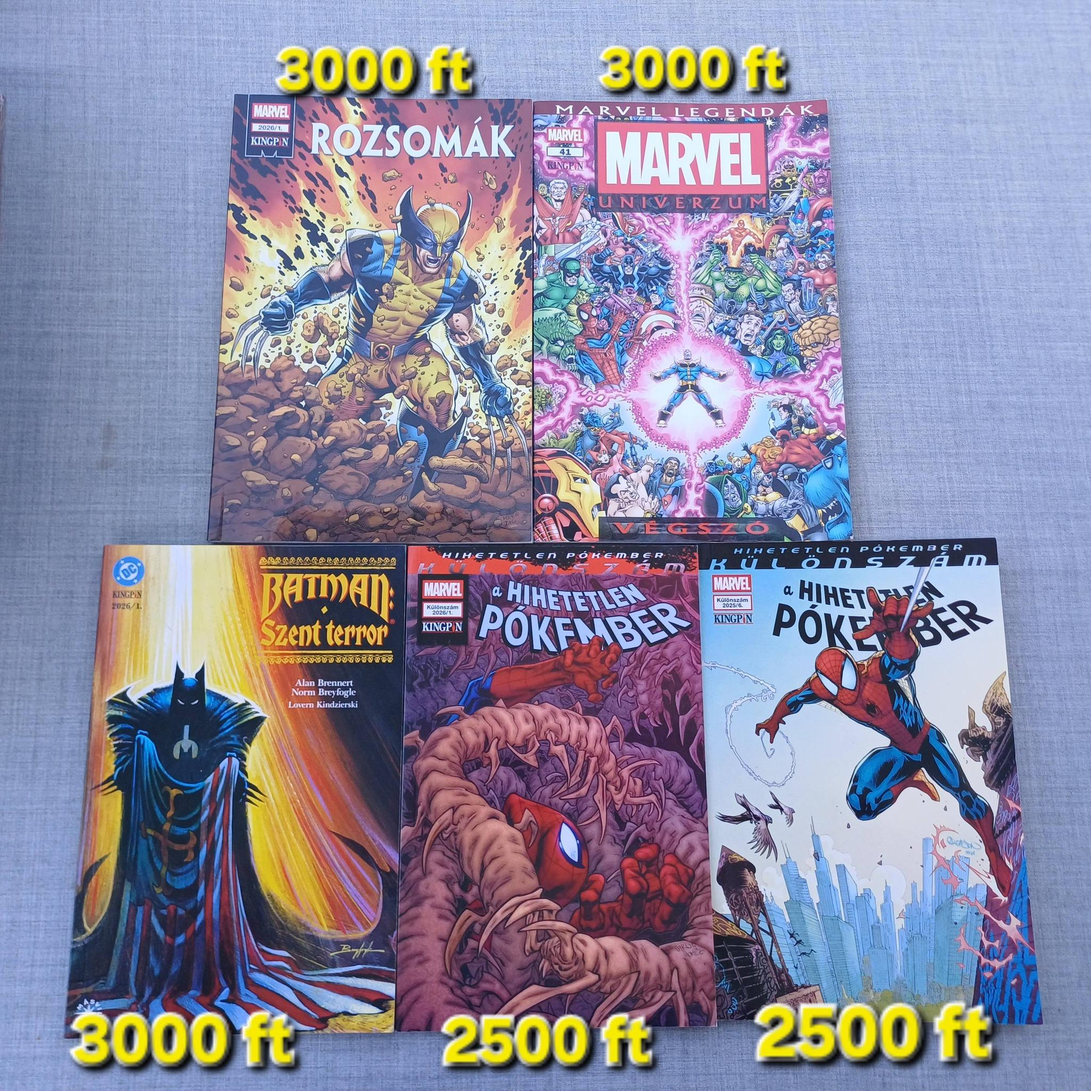comic: (68, 533, 414, 1035), (698, 532, 1042, 1035), (397, 547, 714, 1030), (208, 94, 535, 545), (534, 101, 851, 541)
